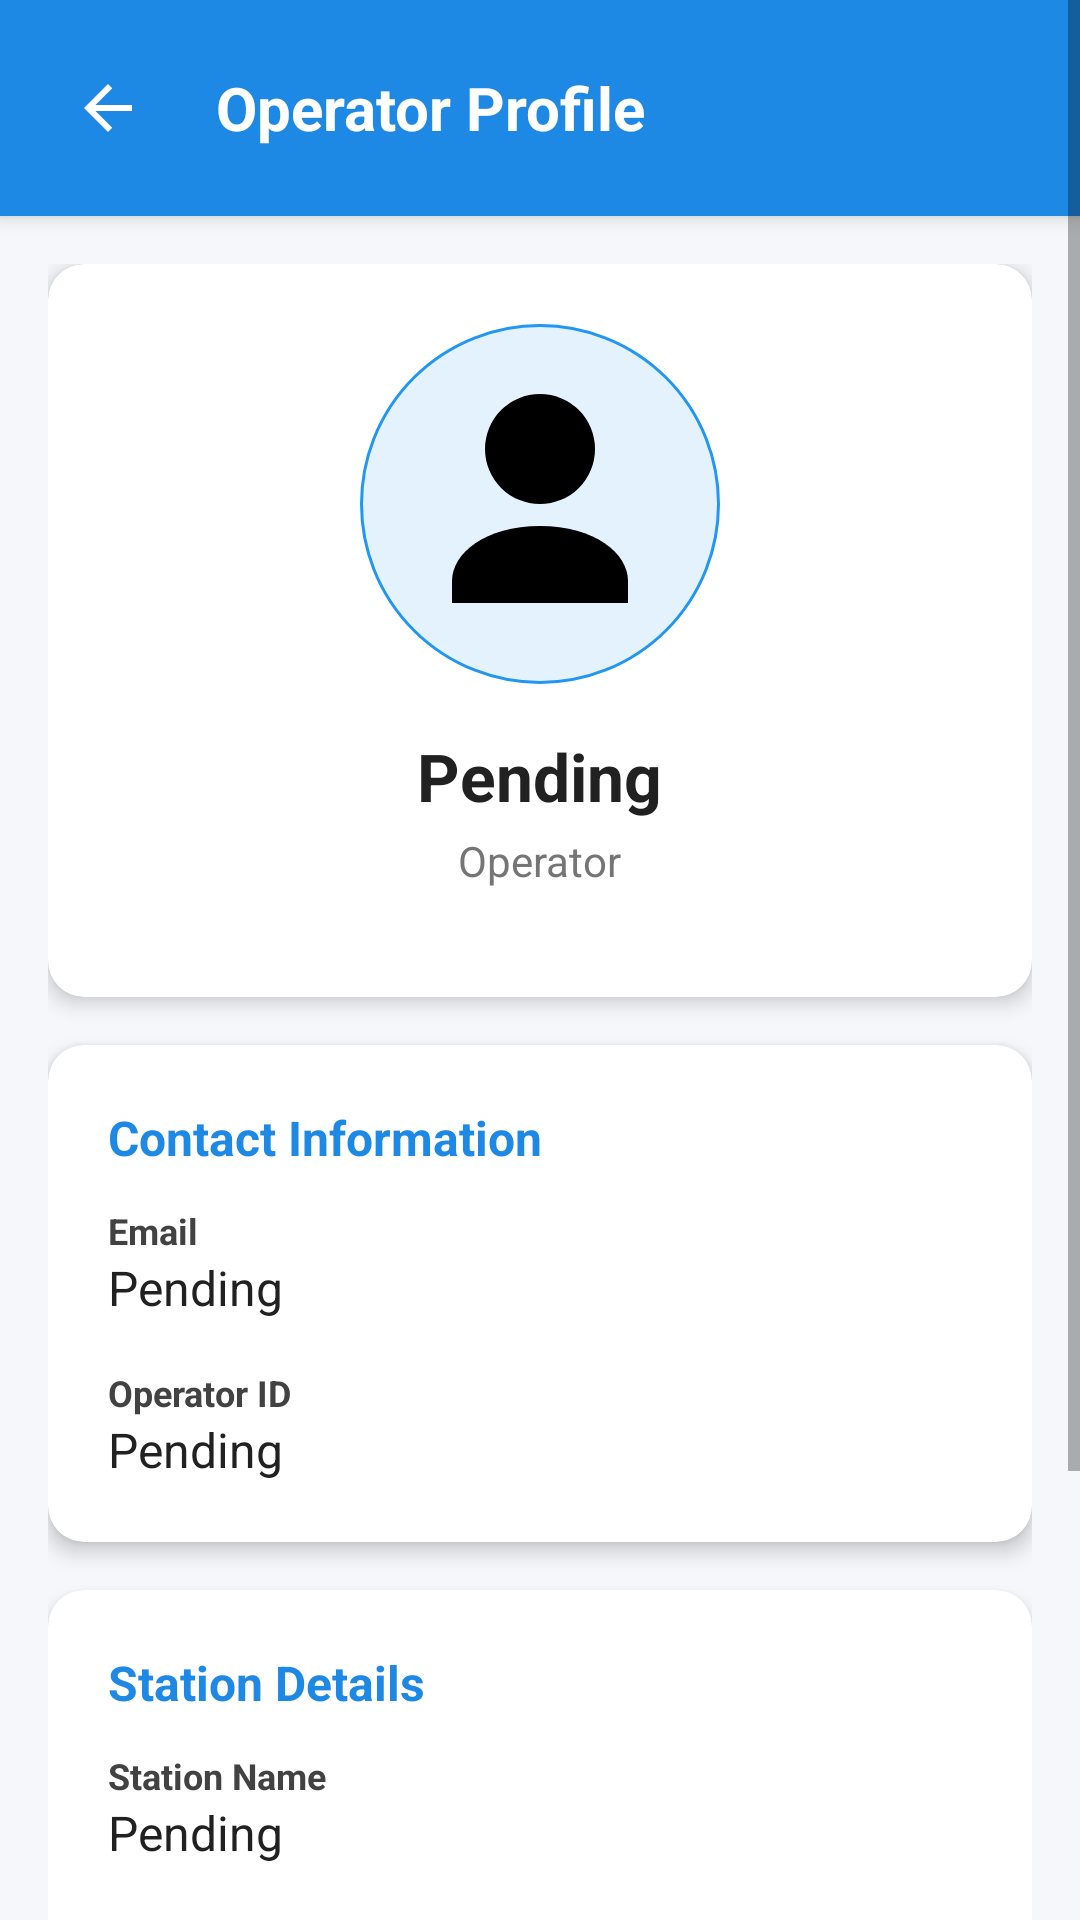

Locate icon controls on the screen. Image size 1080w x 1920h, boxes as (x1, y1, x2, y2).
Back: (84, 84, 132, 132)
Profile Picture: (360, 324, 720, 684)
